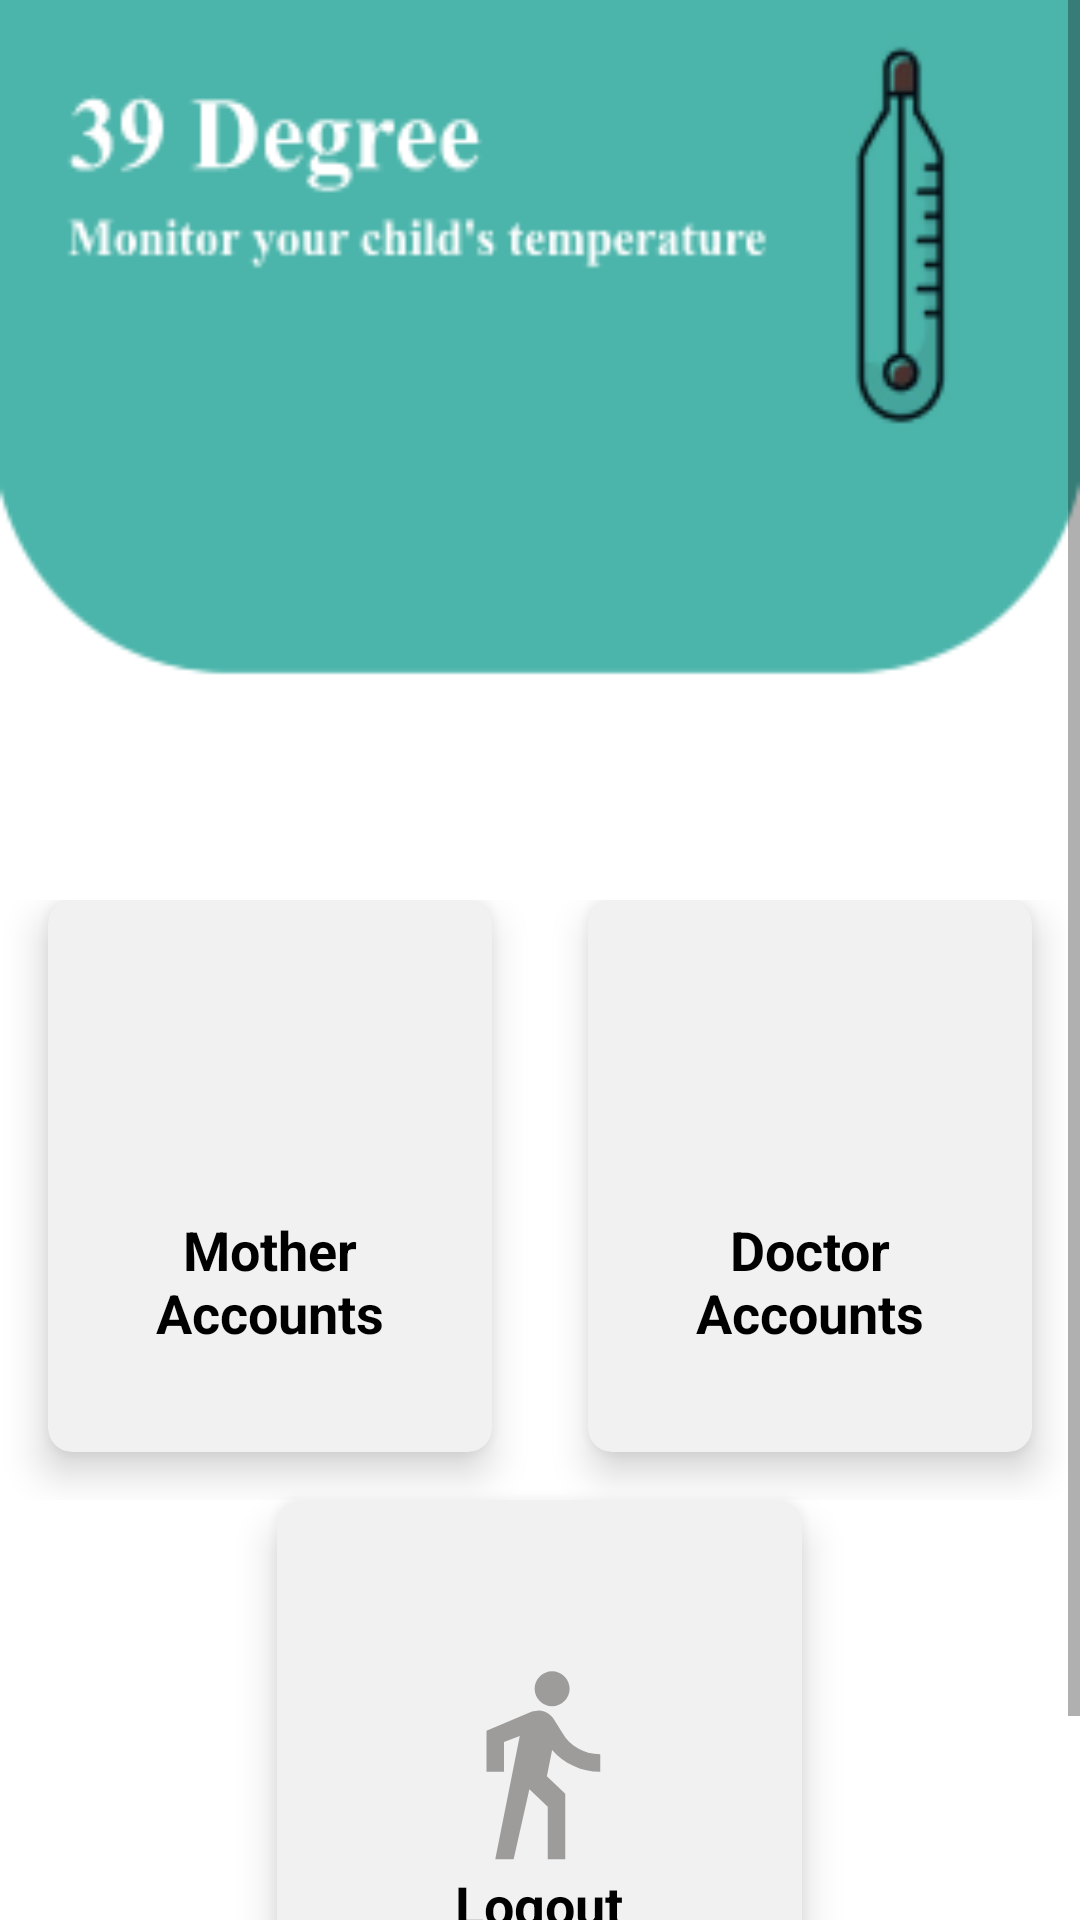

Point at icon controls on the screen. Image size 1080px×1920px, points as (x,y).
directions walk: (543,1765)
